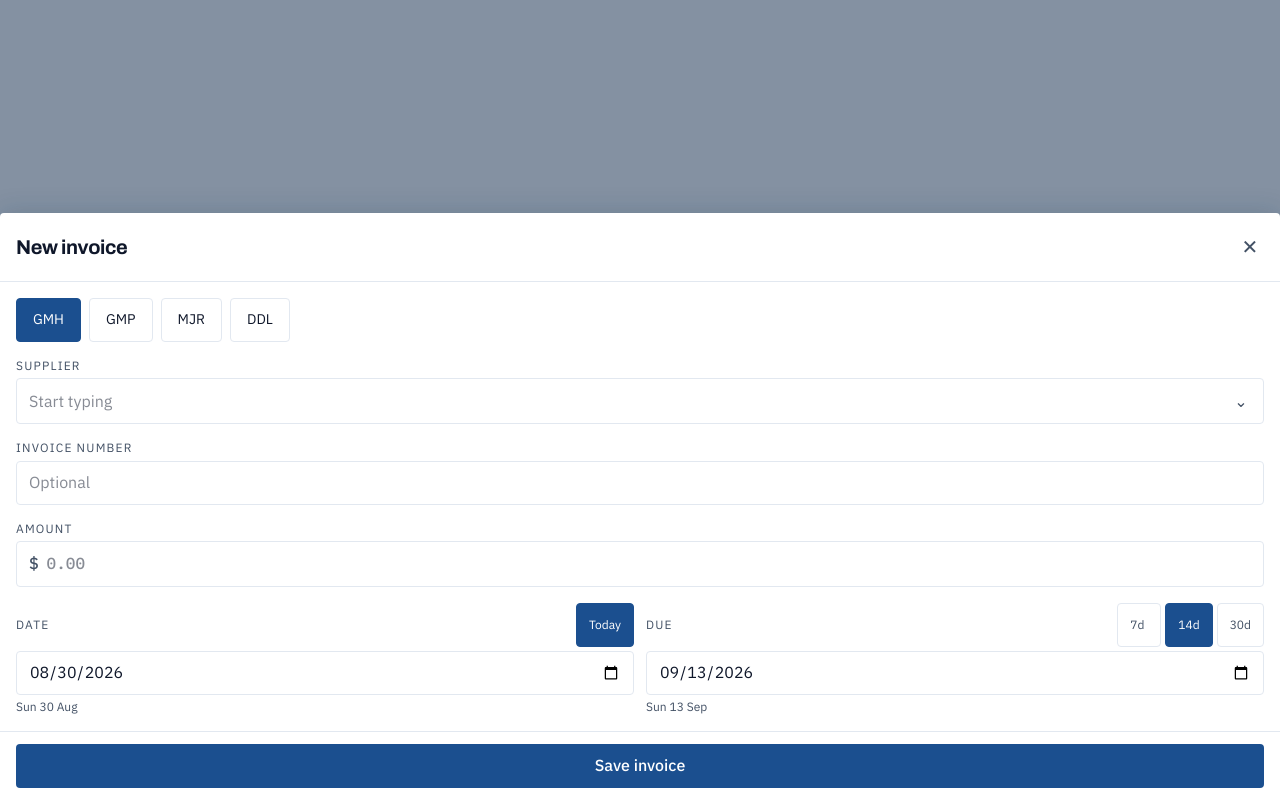
Test: validation › will not save without a supplier, and says which field
This screenshot has width=1280, height=800.
Type "100" into the field labelled "Amount" at (651, 564), box [39,542,1263,586]
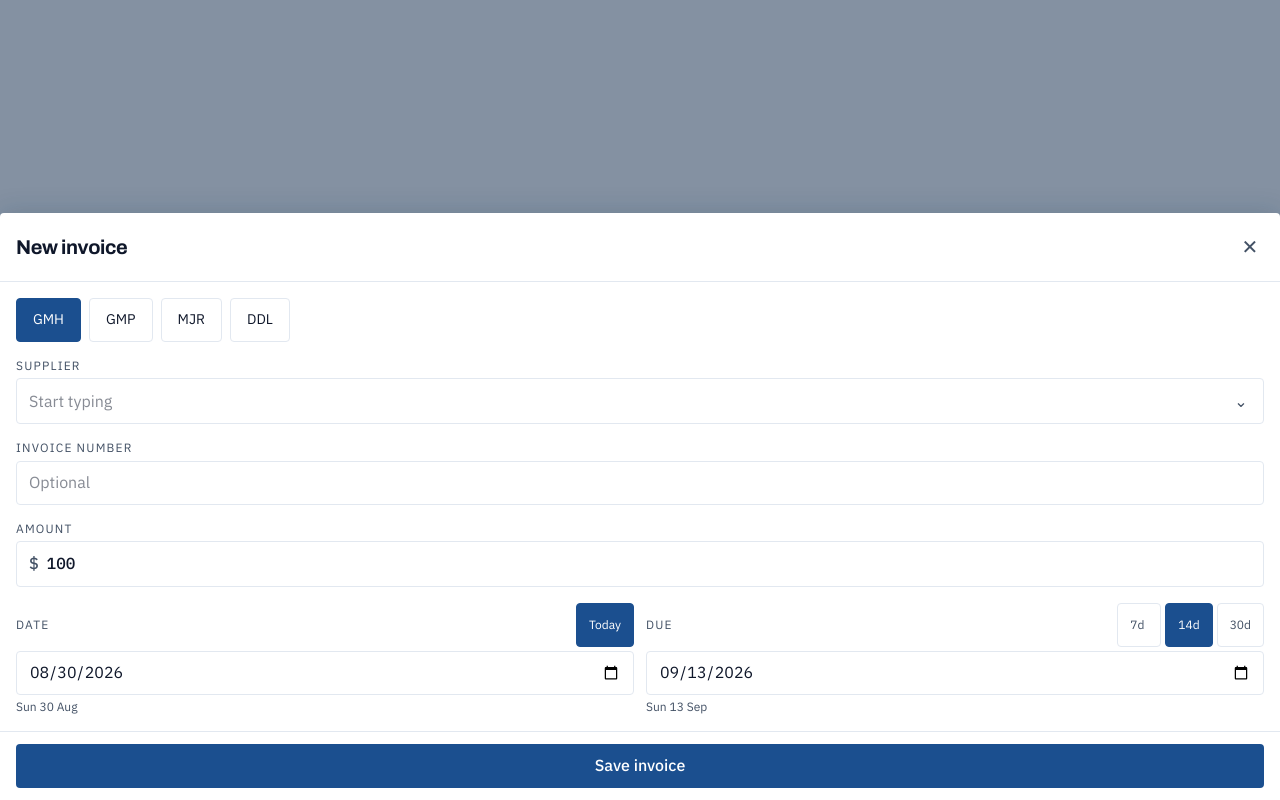
Click the button "Save invoice" at (640, 766), box [16,744,1264,788]
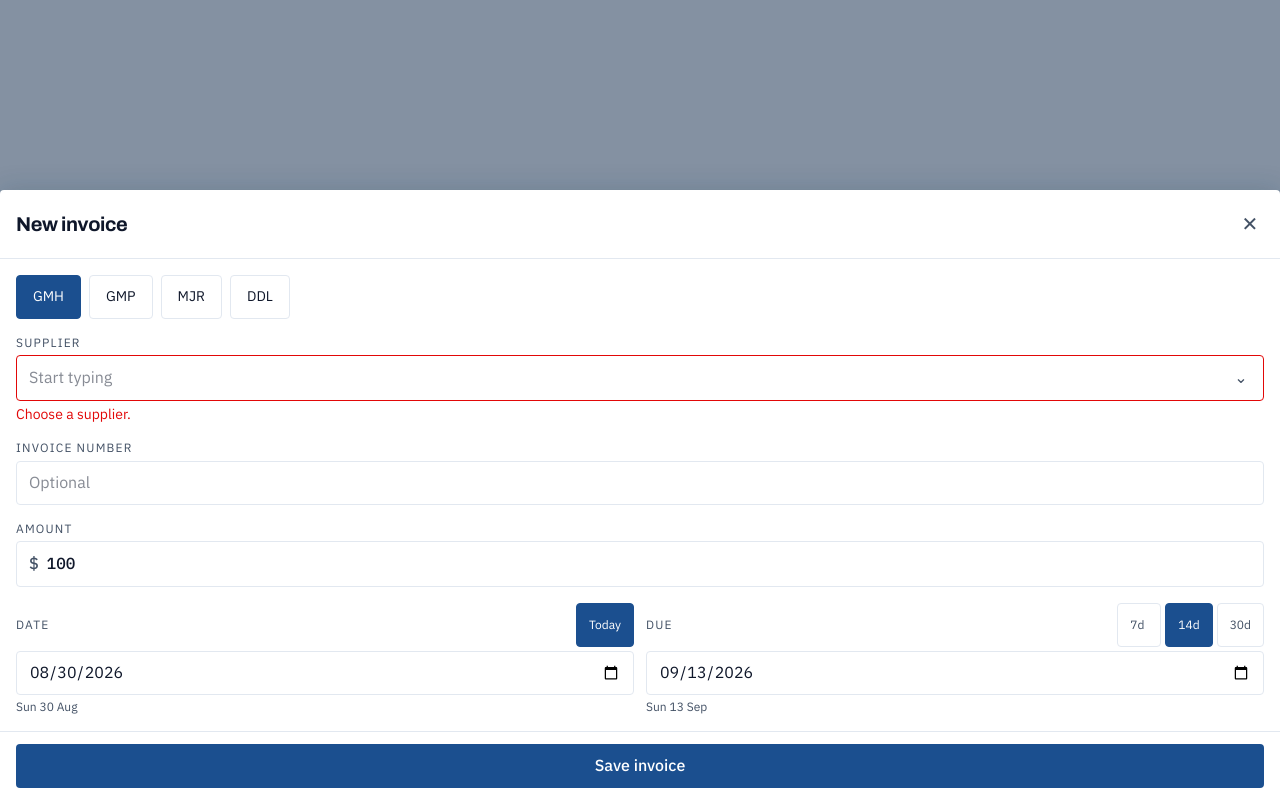
Now the text "Choose a supplier." is shown, box [16,405,131,423]
